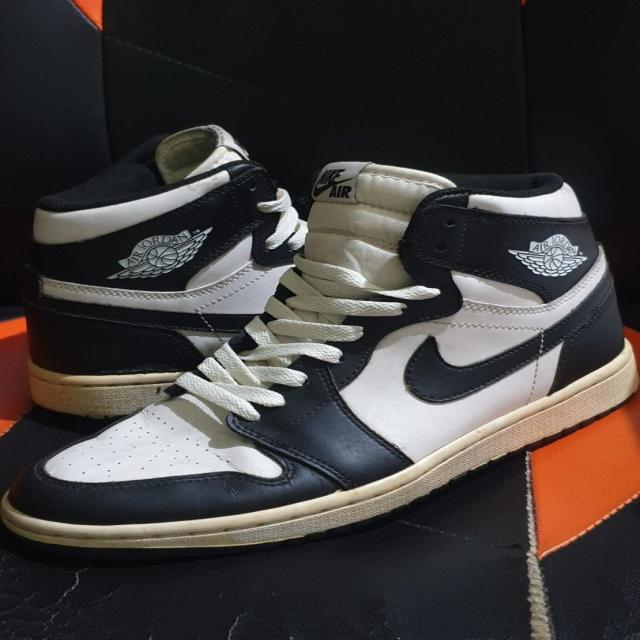nike fake jordan 1: (0, 162, 640, 566), (17, 125, 312, 422)
